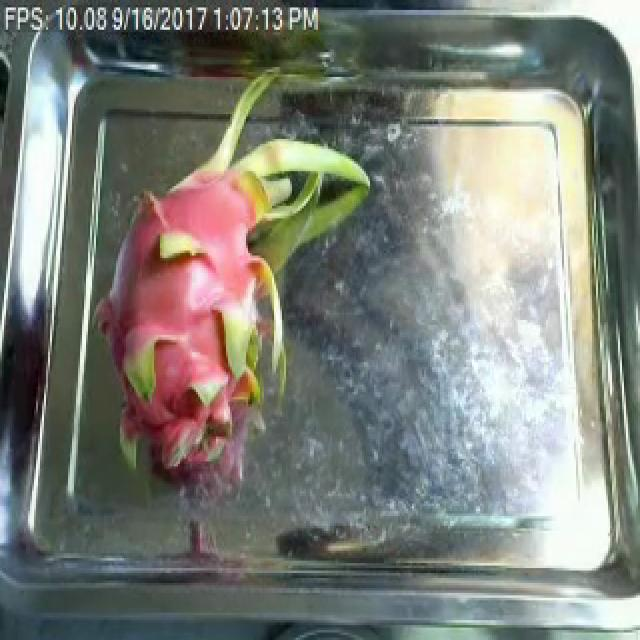fruit: (72, 74, 374, 508)
